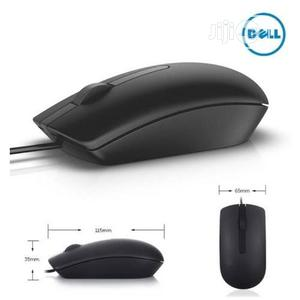dell-mouse-ms116: (5, 57, 271, 171), (213, 199, 278, 292), (43, 238, 178, 280)
